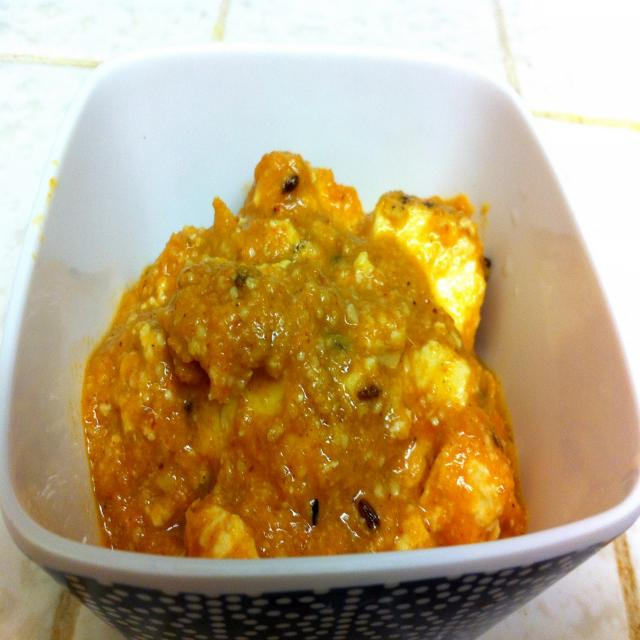ShahiPaneer: (88, 157, 543, 560)
